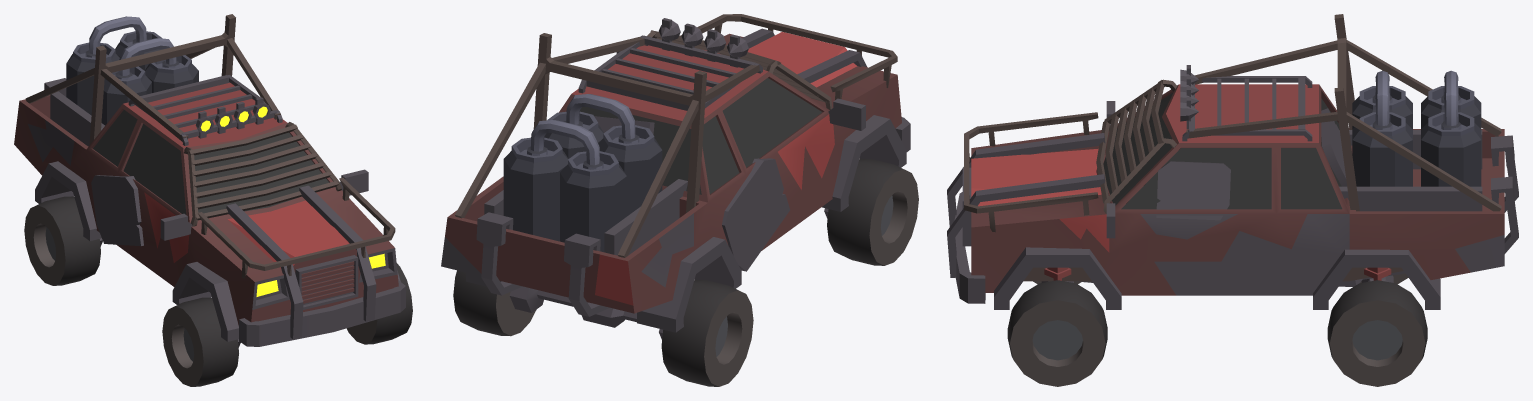
Rendered from ZombieCar.glb.
3 renders of one model, left to right at view 1: azimuth 30°, elevation 25°; view 2: azimuth 150°, elevation 25°; view 3: azimuth 270°, elevation 25°, orthographic. The views are drawn at different scales.
Visible parts, largest first — view 1: ZombieCar, ZCWheel-RR, ZCWheel-FR, ZCWheel-FL; view 2: ZombieCar, ZCWheel-FR, ZCWheel-RR, ZCWheel-RL; view 3: ZombieCar, ZCWheel-FL, ZCWheel-RL.
Boxes of the visible parts, x1,y1,x2,y2 form: ZombieCar: (14,14,405,347); ZCWheel-RR: (24,196,100,285); ZCWheel-FR: (162,297,238,386); ZCWheel-FL: (346,263,412,344); ZombieCar: (441,14,910,339); ZCWheel-FR: (827,158,918,265); ZCWheel-RR: (661,279,753,386); ZCWheel-RL: (453,270,536,336); ZombieCar: (947,14,1518,309); ZCWheel-FL: (1007,280,1107,386); ZCWheel-RL: (1327,280,1427,386).
Bounding box in the file's own units: 2.33 × 2.55 × 4.76.
1 material, 1 textured.
